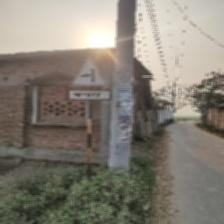Side-road-left: (69, 58, 111, 102)
